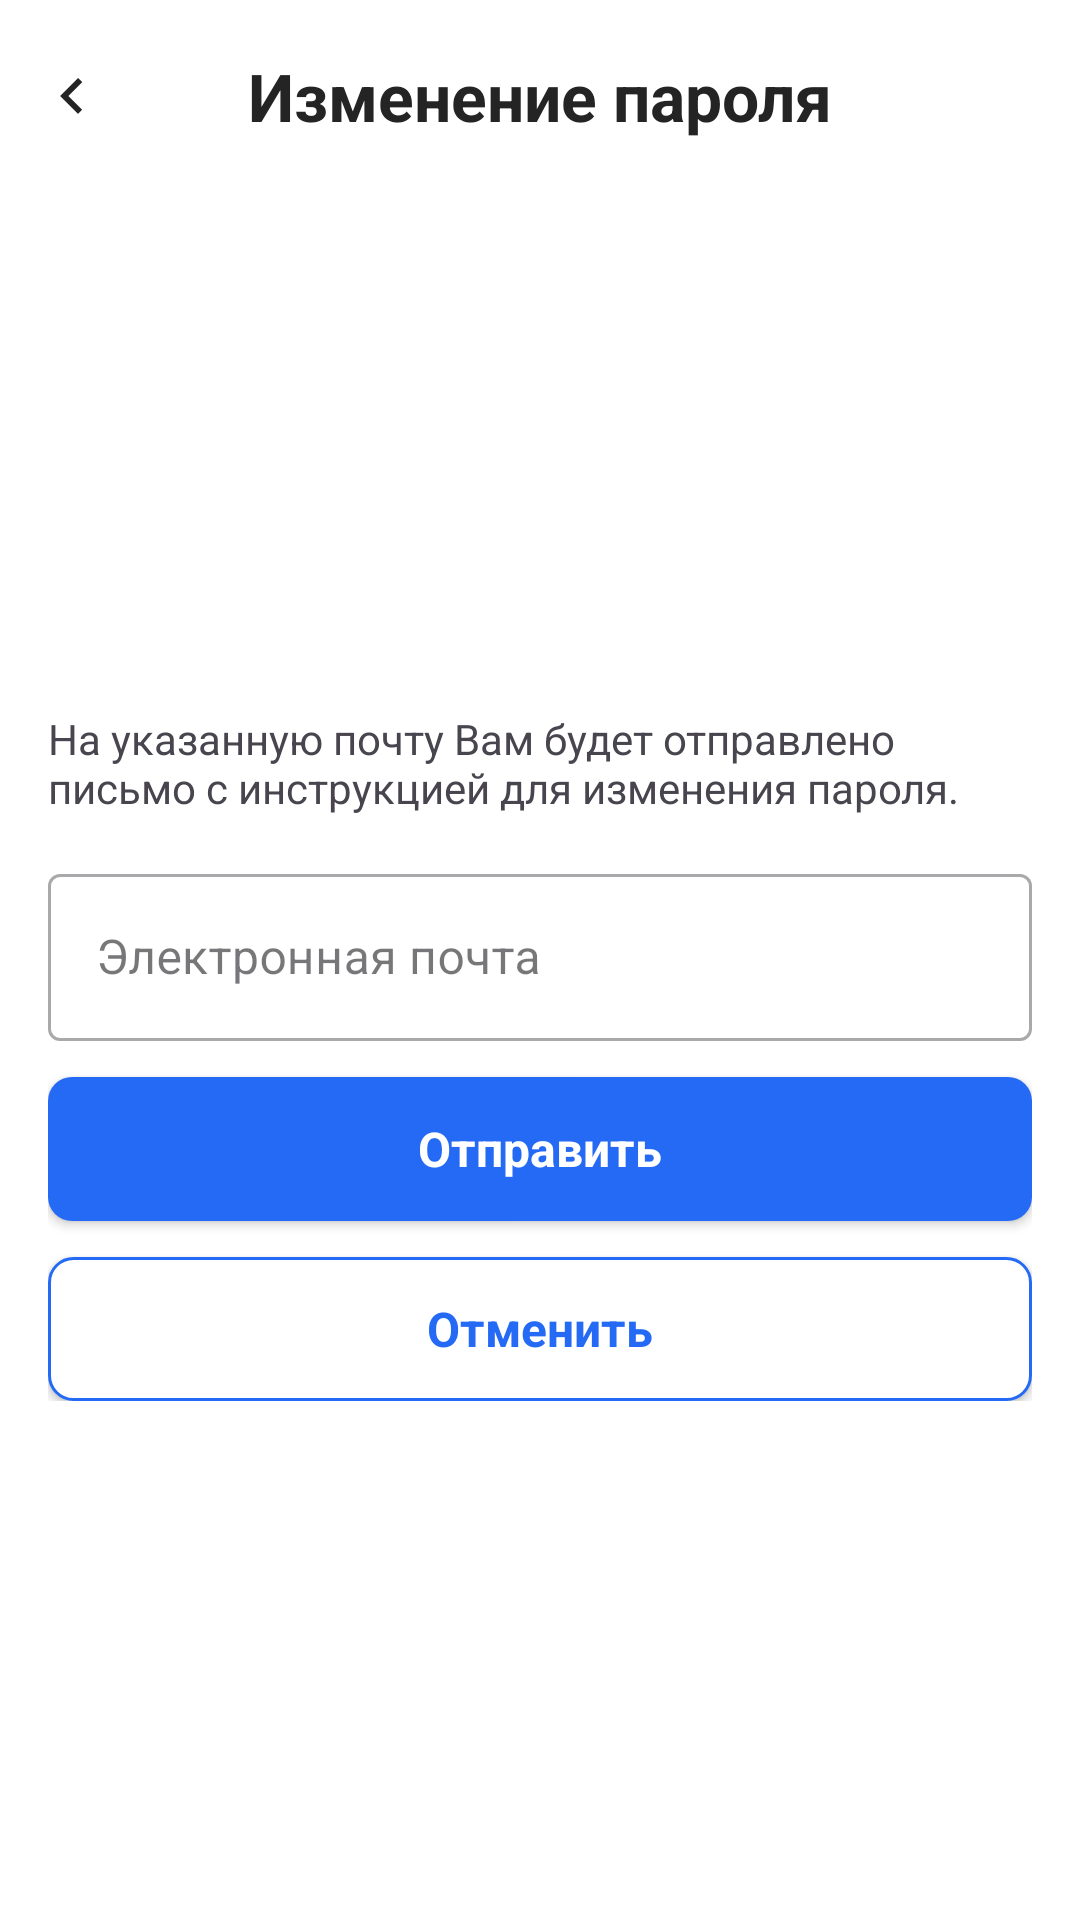

Screen size 1080×1920. Icon name, then its center in pixels as [x,y]:
GO BACK: [71,96]
